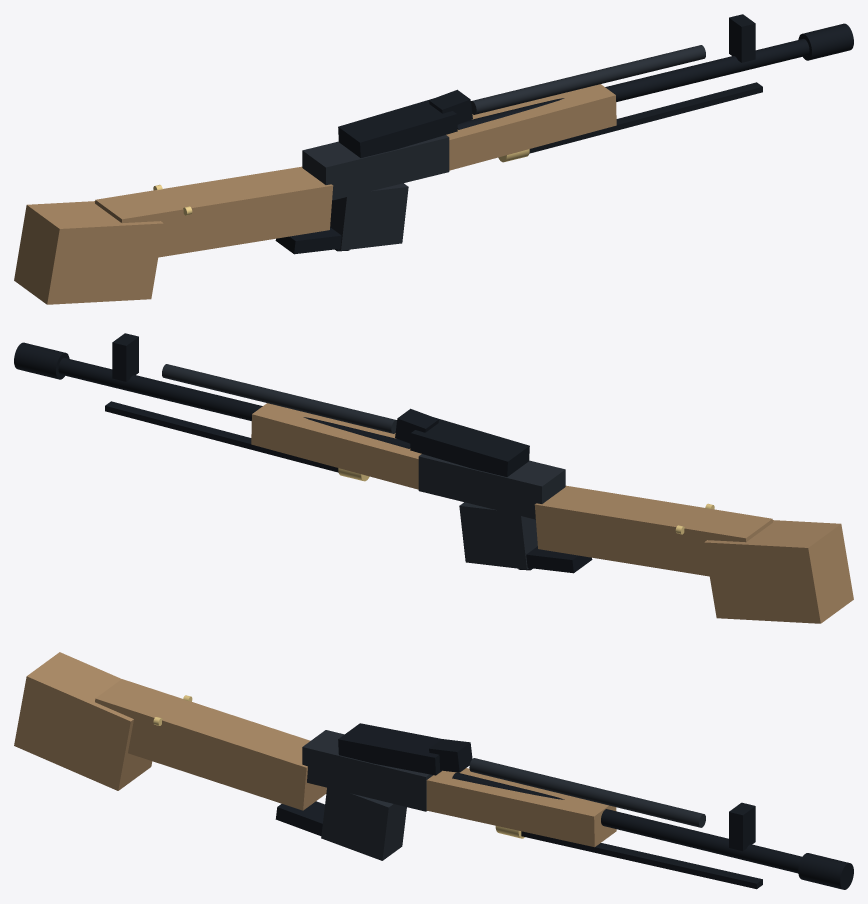
The model's file is eastern_carbine_rifle.gltf.
3 renders of one model, top to bottom at view 1: azimuth 30°, elevation 25°; view 2: azimuth 150°, elevation 25°; view 3: azimuth 330°, elevation 25°, orthographic.
Parts seen in each view (by area): view 1: tapered walnut rifle stock, walnut shoulder buttstock, walnut upper handguard, dark receiver block, upper receiver cover, long steel barrel, curved box magazine, parallel gas tube, folded bayonet blade, front muzzle collar, front sight post, trigger guard loop (+1 smaller); view 2: tapered walnut rifle stock, walnut shoulder buttstock, walnut upper handguard, dark receiver block, upper receiver cover, long steel barrel, curved box magazine, parallel gas tube, folded bayonet blade, front muzzle collar, front sight post, trigger guard loop (+1 smaller); view 3: tapered walnut rifle stock, walnut shoulder buttstock, walnut upper handguard, dark receiver block, curved box magazine, long steel barrel, parallel gas tube, upper receiver cover, folded bayonet blade, front muzzle collar, front sight post, trigger guard loop (+1 smaller).
Part boxes in pixels (x1,y1,x2,y2): tapered walnut rifle stock: (95,166,333,257); walnut shoulder buttstock: (14,201,163,304); walnut upper handguard: (446,84,616,170); dark receiver block: (302,135,449,200); upper receiver cover: (338,99,457,157); long steel barrel: (457,38,809,129); curved box magazine: (330,183,408,250); parallel gas tube: (471,45,705,114); folded bayonet blade: (529,82,762,153); front muzzle collar: (798,23,853,60); front sight post: (729,14,755,62); trigger guard loop: (275,227,341,254); tapered walnut rifle stock: (534,485,772,576); walnut shoulder buttstock: (704,520,853,623); walnut upper handguard: (251,403,421,489); dark receiver block: (418,454,565,519); upper receiver cover: (410,418,529,476); long steel barrel: (58,357,410,448); curved box magazine: (459,502,537,569); parallel gas tube: (162,364,396,433); folded bayonet blade: (105,401,338,472); front muzzle collar: (14,342,69,379); front sight post: (112,333,138,381); trigger guard loop: (526,546,592,573); tapered walnut rifle stock: (95,679,326,810); walnut shoulder buttstock: (14,652,152,790); walnut upper handguard: (426,768,616,847); dark receiver block: (302,730,433,811); curved box magazine: (321,787,406,860); long steel barrel: (452,772,802,873); parallel gas tube: (469,758,705,827); upper receiver cover: (338,723,441,775); folded bayonet blade: (521,831,762,889); front muzzle collar: (798,853,853,889); front sight post: (729,802,755,851); trigger guard loop: (275,801,324,835).
Size of the model in its own units: 1.85 by 0.2844 by 0.132.
